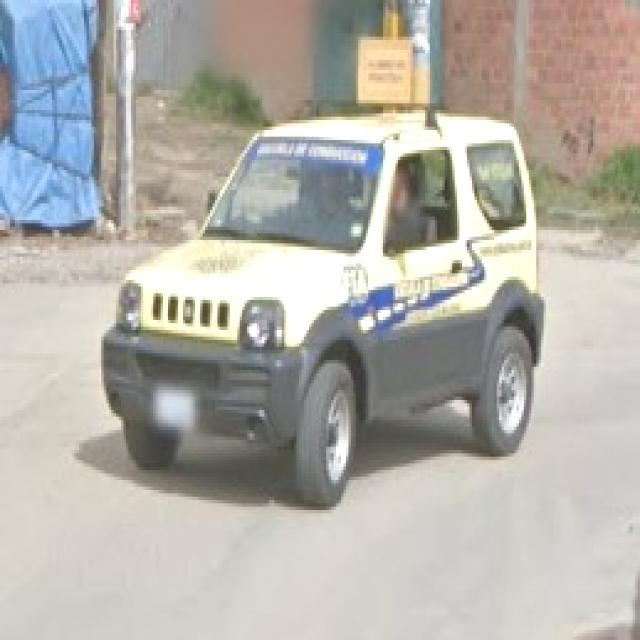car: (110, 110, 549, 506)
